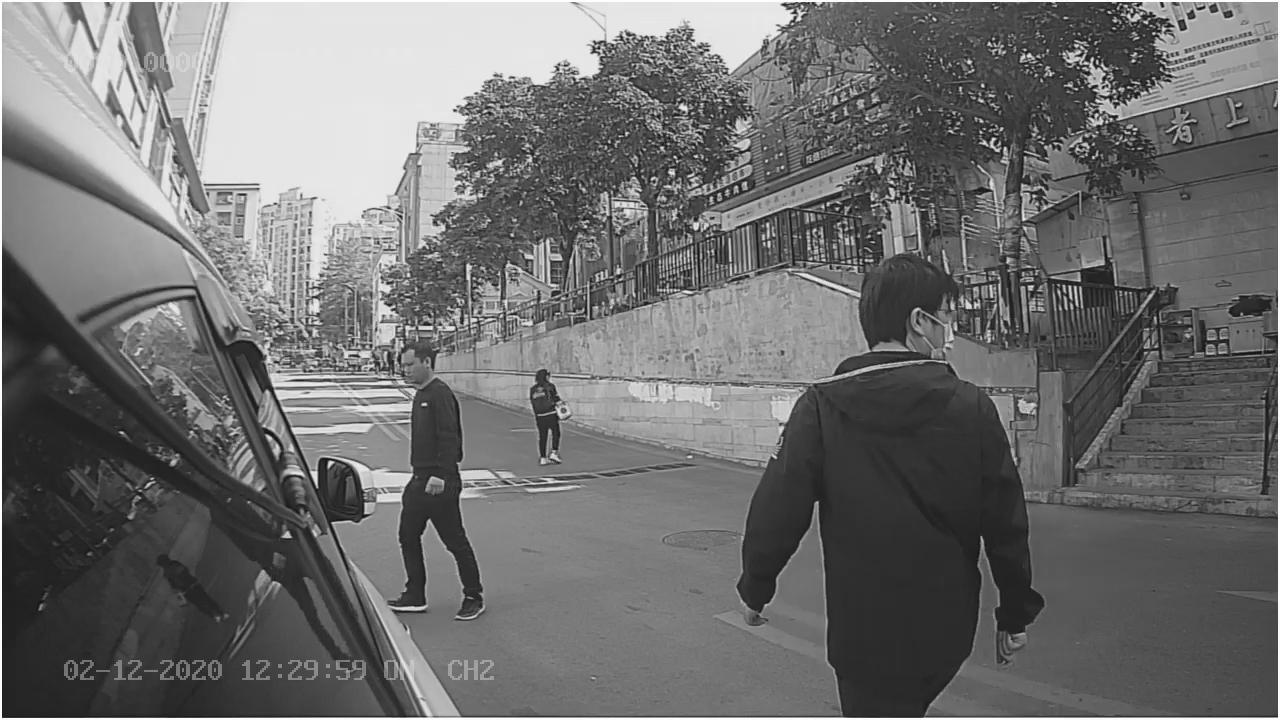person: (725, 233, 1039, 662), (387, 335, 493, 620)
